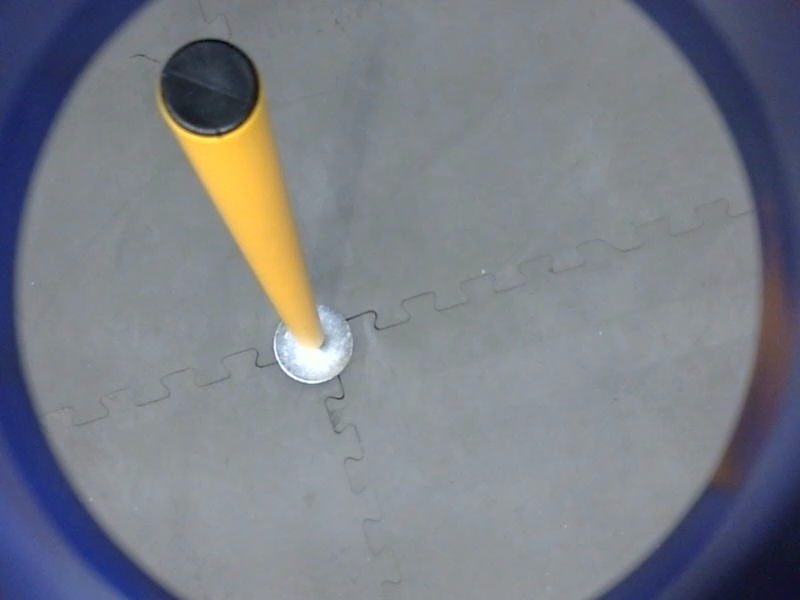tip: (152, 33, 269, 147)
